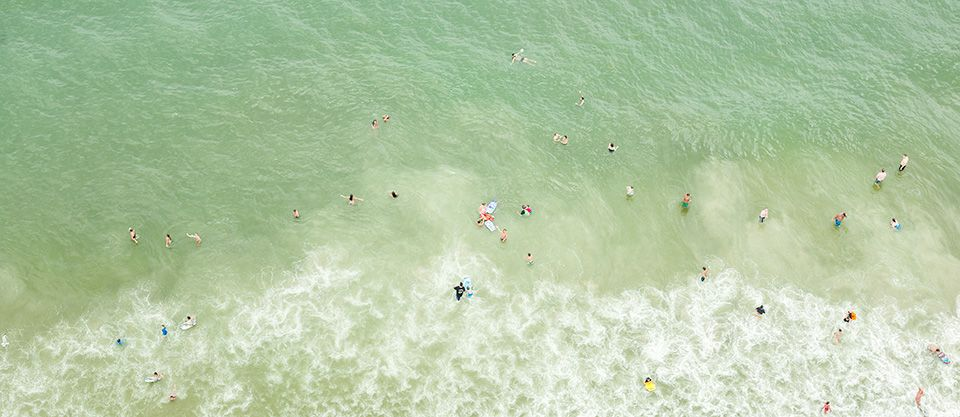people: (924, 341, 955, 369), (868, 165, 891, 194), (890, 150, 914, 177), (175, 311, 205, 331), (828, 208, 851, 234), (910, 380, 928, 411), (696, 263, 718, 288), (837, 304, 861, 325), (122, 224, 144, 246), (883, 214, 906, 234), (678, 189, 695, 215), (828, 324, 850, 343), (185, 229, 208, 247), (160, 230, 178, 253), (339, 193, 368, 207), (748, 301, 768, 321), (640, 375, 660, 395), (816, 398, 837, 416), (573, 91, 593, 109), (156, 321, 174, 341), (521, 249, 542, 266), (145, 370, 167, 386), (754, 206, 773, 223), (496, 223, 510, 246), (110, 334, 130, 350), (513, 203, 533, 218), (602, 140, 625, 153), (460, 280, 474, 301), (287, 207, 308, 221), (622, 184, 639, 201), (449, 282, 466, 299), (473, 201, 495, 213), (379, 110, 395, 125), (167, 391, 183, 406), (473, 214, 487, 230), (386, 186, 403, 199), (559, 130, 571, 146), (366, 115, 378, 128), (549, 132, 563, 142)
